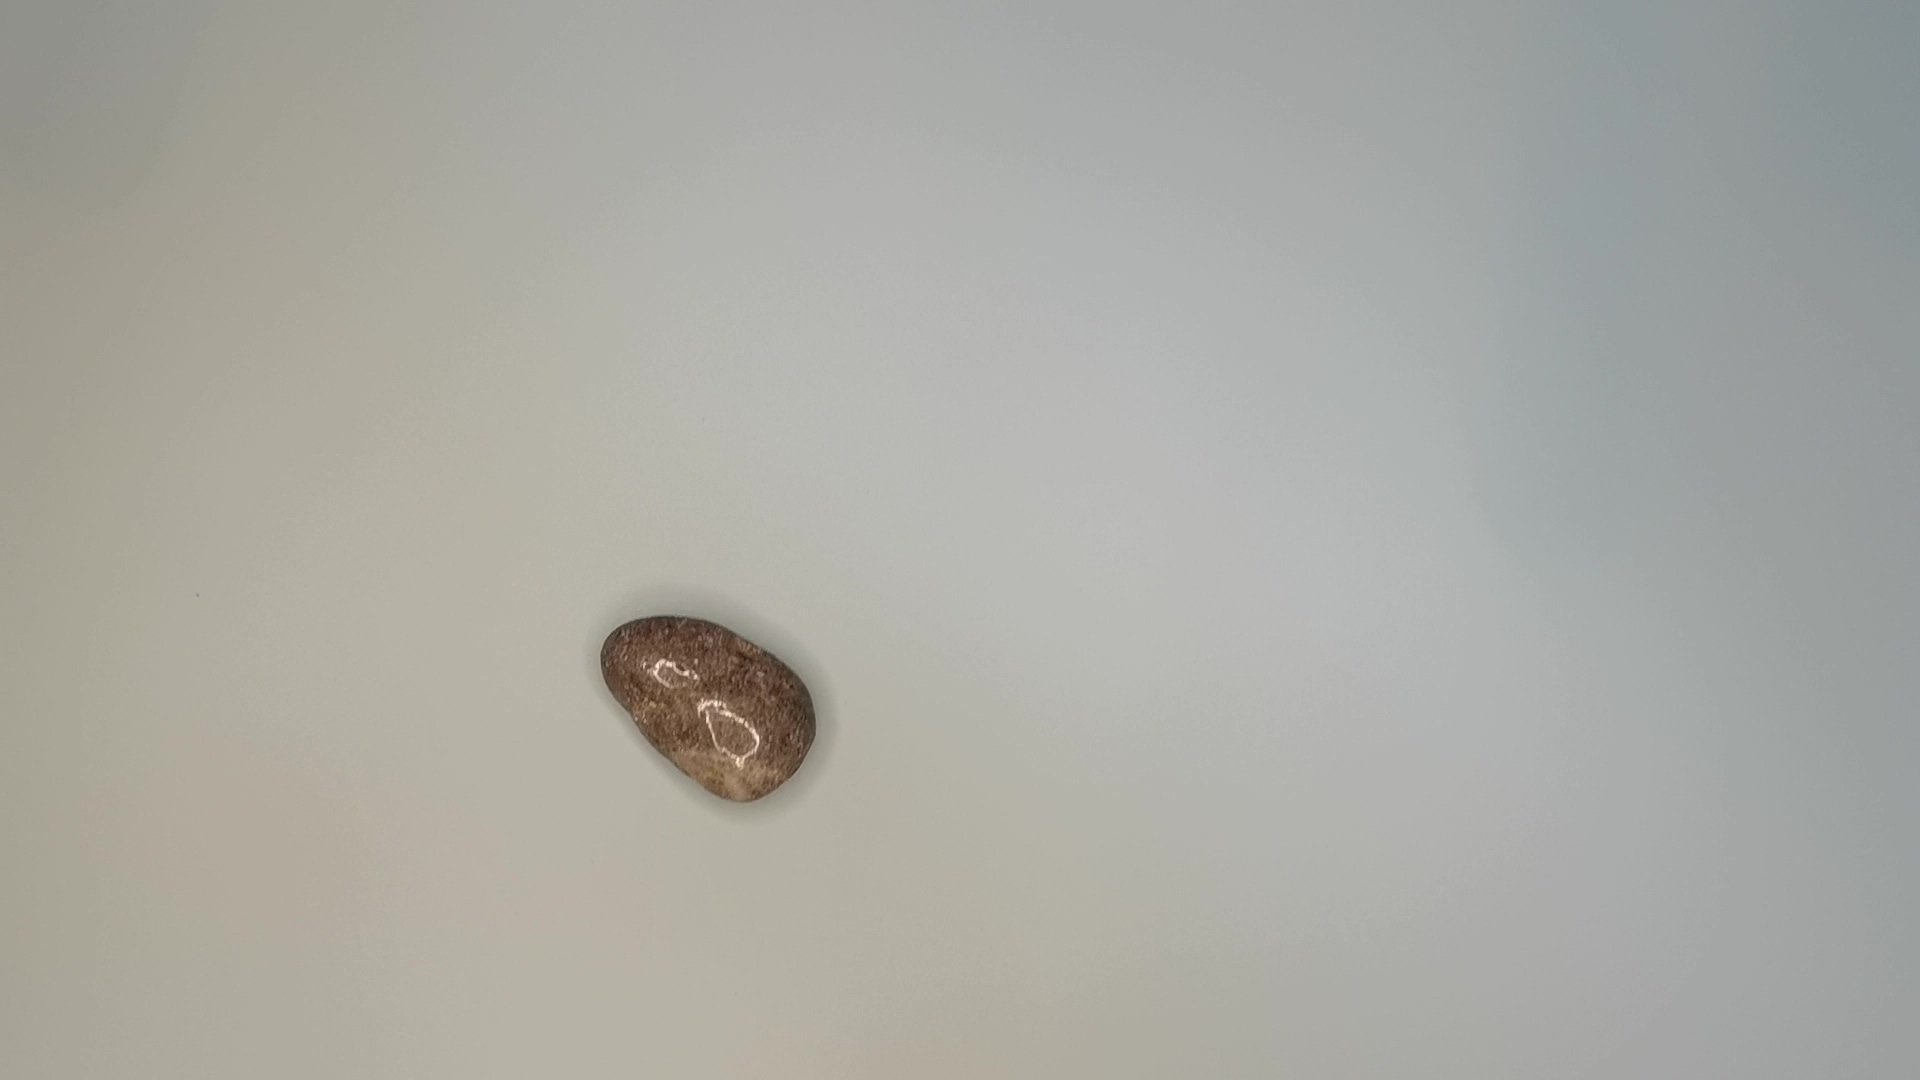ceramic: (591, 605, 822, 808)
